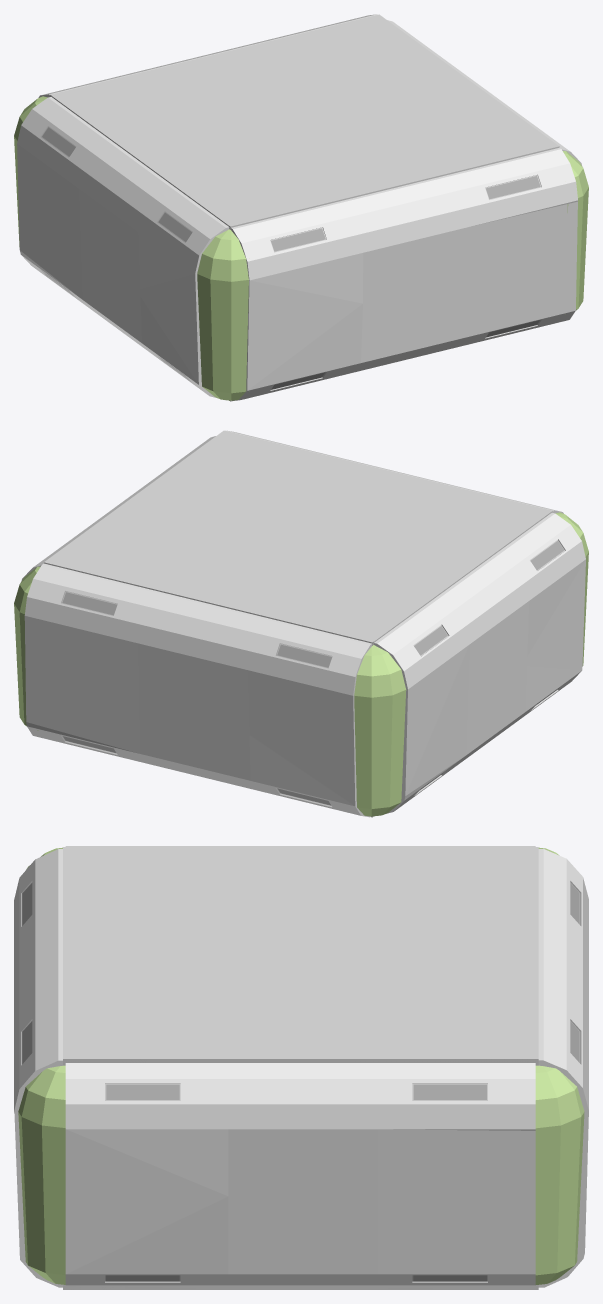
3 renders of one model, top to bottom at view 1: azimuth 30°, elevation 25°; view 2: azimuth 150°, elevation 25°; view 3: azimuth 270°, elevation 25°, orthographic. The views are drawn at different scales.
Visible parts, largest first — view 1: Sphere; view 2: Sphere; view 3: Sphere.
Boxes of the visible parts, bbox=[...] form: Sphere: bbox=[14, 14, 588, 401]; Sphere: bbox=[14, 430, 588, 817]; Sphere: bbox=[14, 846, 588, 1289].
Size of the model in its own units: 1476 by 633 by 1429.
